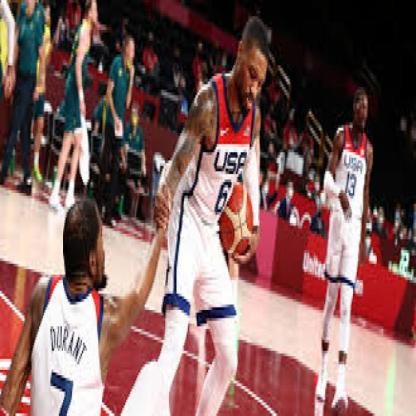basketball: (218, 180, 254, 262)
